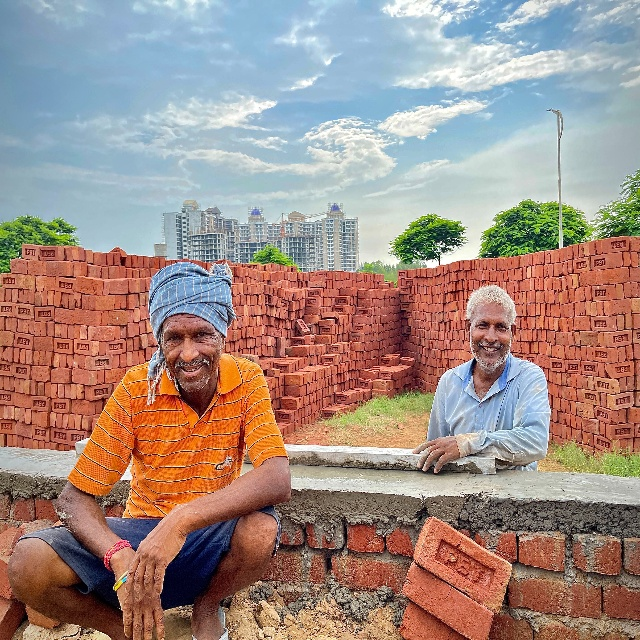Sin_guantes: (115, 552, 165, 640), (124, 520, 181, 596), (412, 436, 459, 474)
